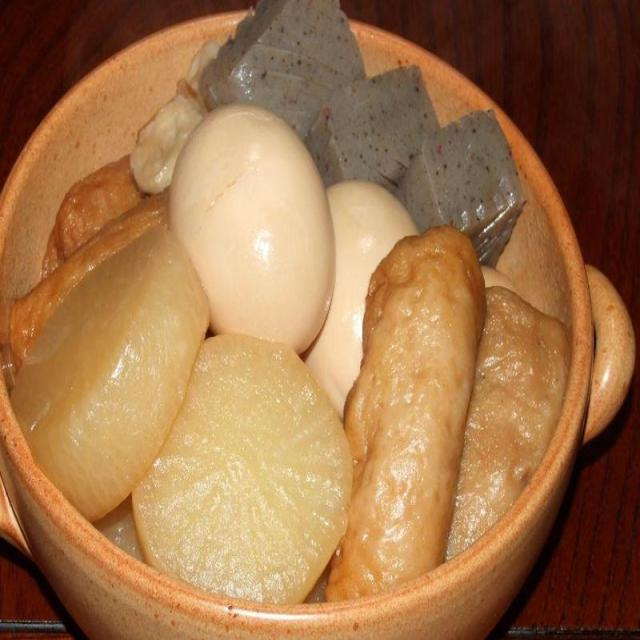汤锅炖物: (0, 0, 575, 615)
